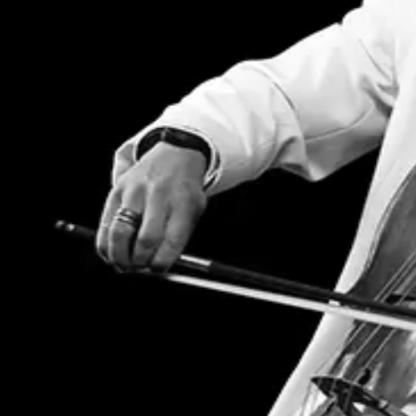bad: (84, 164, 215, 282)
